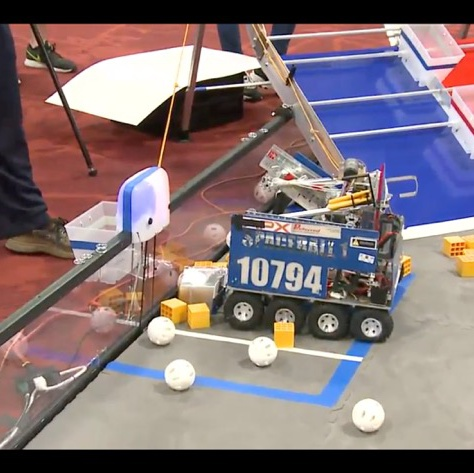robot: (220, 140, 404, 343)
